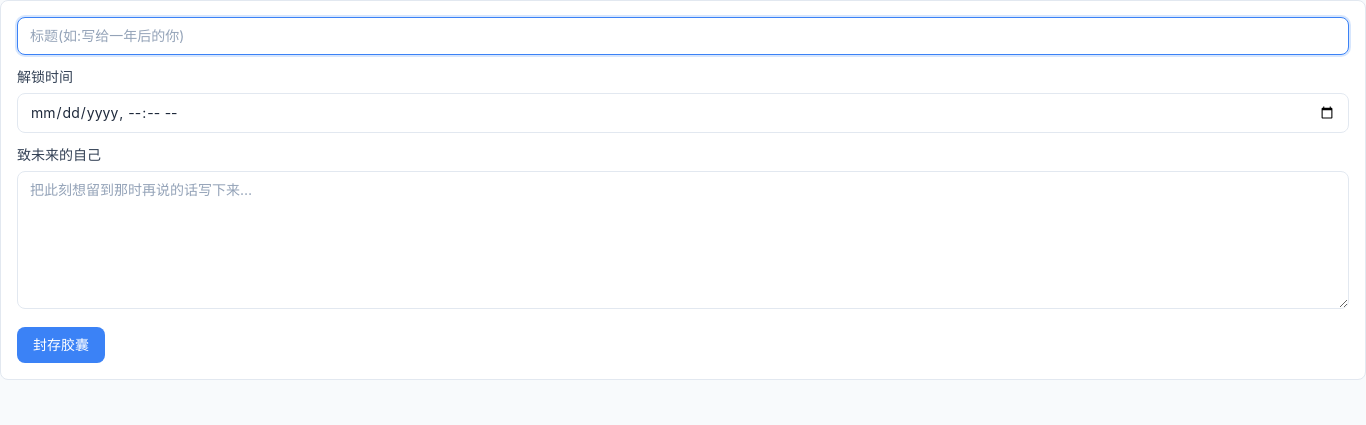
Test: TimeCapsuleEditor › 标题空:提交显示"请填写标题"
The image size is (1366, 425).
Click the button "封存胶囊" at [61, 345], box 17,327 -> 105,363
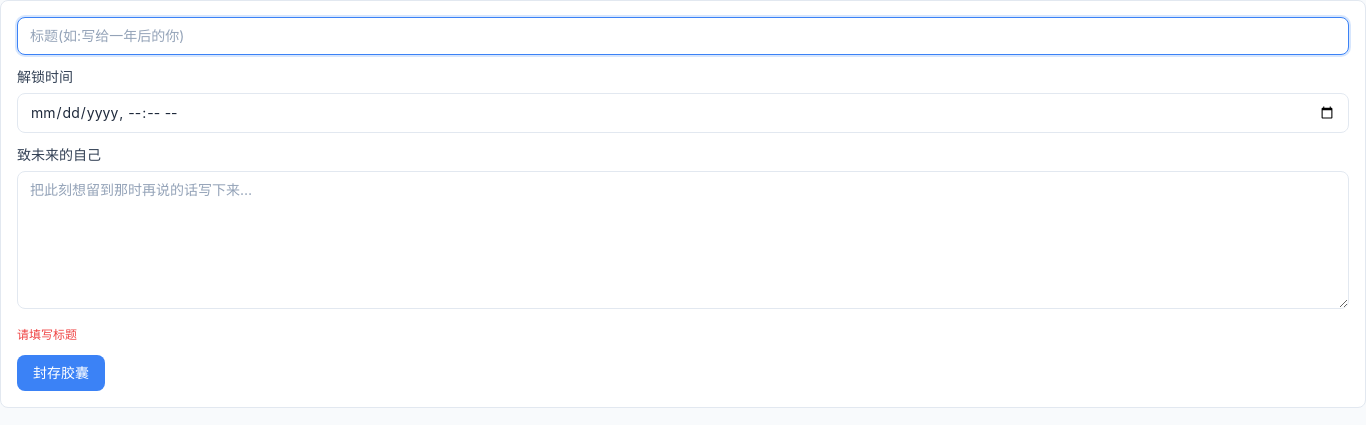
expect the text "请填写标题" is shown: met, box 17,327 -> 77,342
